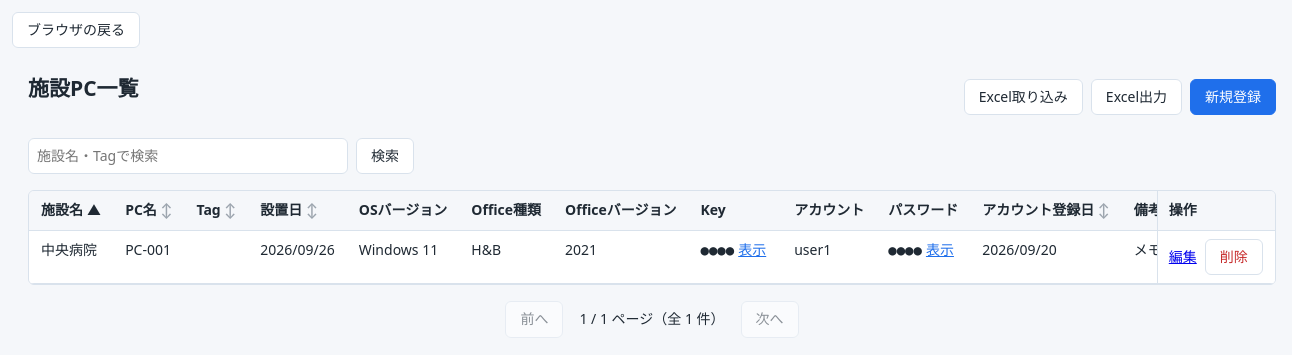
FacilityPcListPage › 新規登録ページへ移動できる
Click the link "新規登録".
click(1233, 97)  # box [1190, 79, 1276, 115]
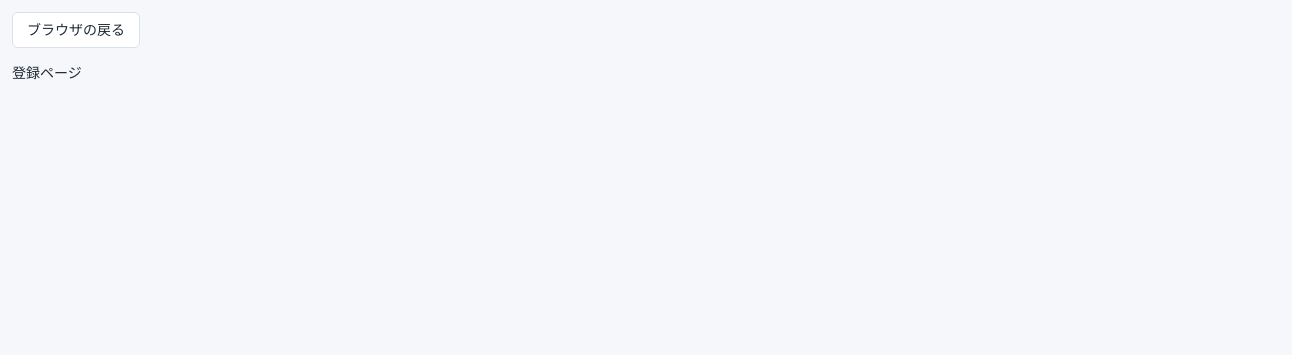
expect the text "登録ページ" is shown: met, box [12, 63, 82, 82]
